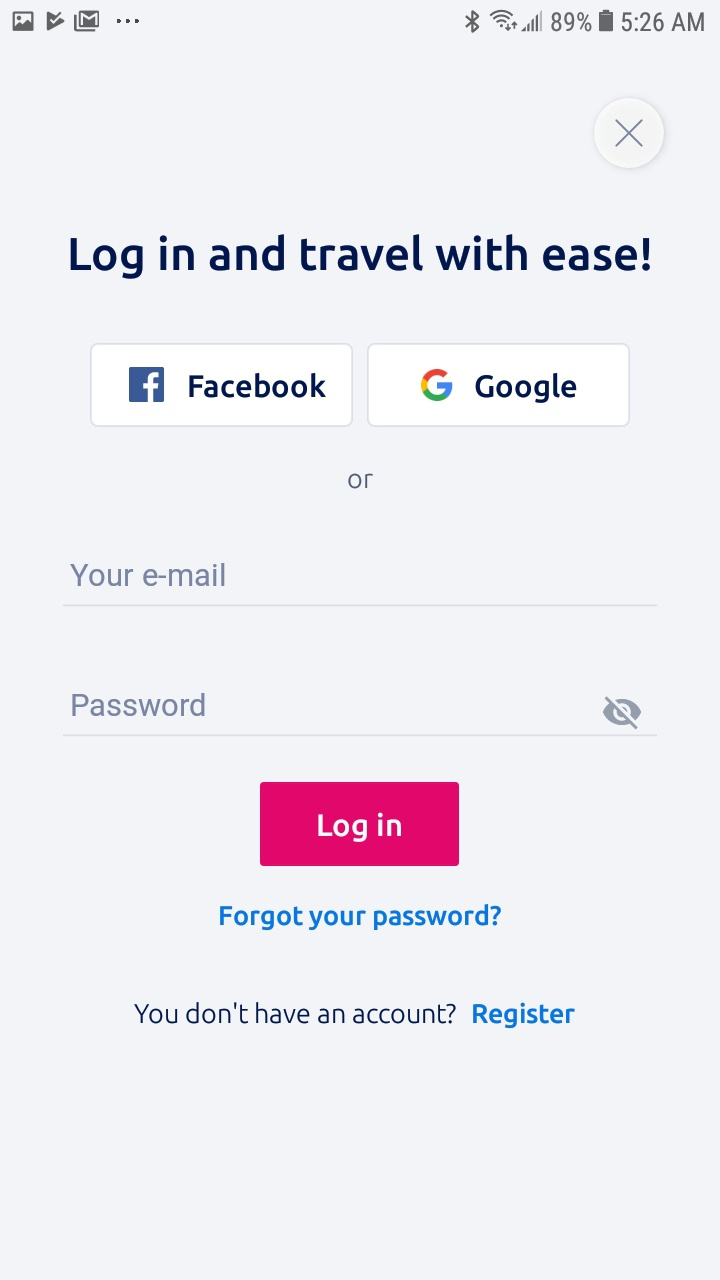EditText: (63, 692, 658, 737), (64, 563, 658, 608)
Icon: (593, 98, 665, 170), (602, 696, 642, 731)
Text: (70, 235, 651, 281), (220, 903, 502, 931), (134, 1001, 457, 1025), (71, 564, 226, 588), (73, 693, 206, 718), (472, 1002, 576, 1029), (348, 473, 374, 490)
TextButton: (91, 343, 354, 428), (367, 343, 630, 428), (260, 782, 460, 867)
UpperTaskBar: (1, 1, 720, 35)
